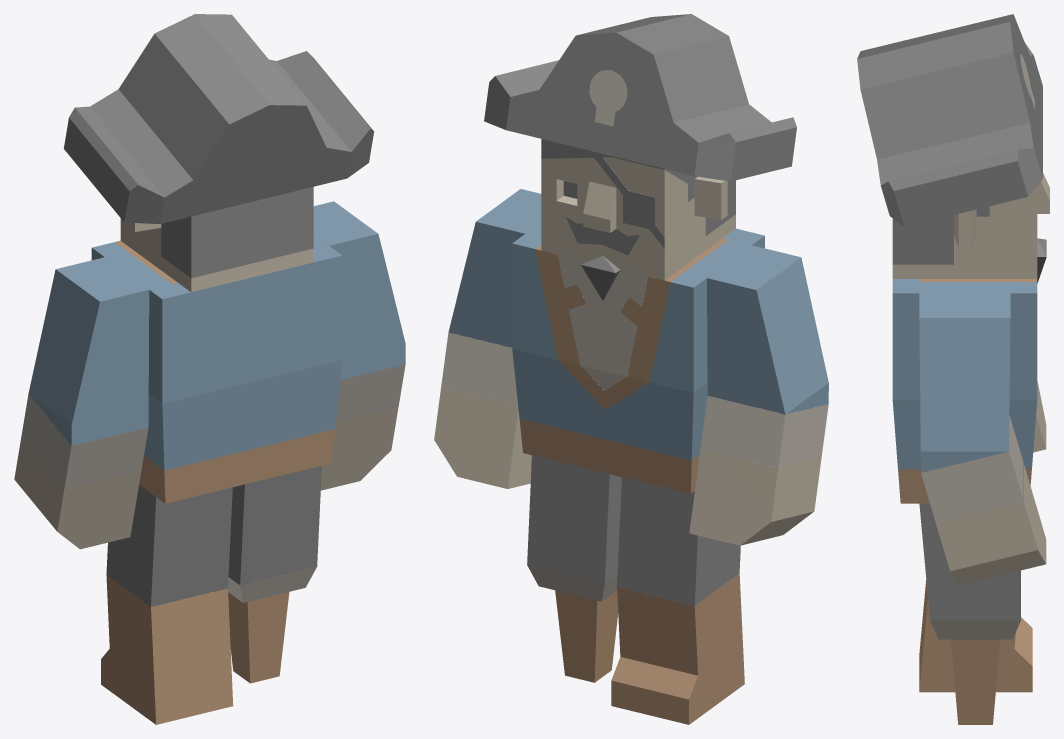
File: enemy-brute.glb
The picture shows the model from 3 angles, left to right: view 1: azimuth 30°, elevation 25°; view 2: azimuth 150°, elevation 25°; view 3: azimuth 270°, elevation 25°; orthographic projection. The views are drawn at different scales.
Parts seen in each view (by area): view 1: Group 85.001_3_0, body 2_2_0, armLeft 2_0_0, legLeft 2_5_1, legLeft 2_5_0, armRight 2_1_2, Group 85_4_1, legRight 2_6_0, armLeft 2_0_2, body 2_2_1, armLeft 2_0_1, legRight 2_6_2 (+4 smaller); view 2: Group 85.001_3_0, body 2_2_0, armLeft 2_0_0, Group 85_4_0, legLeft 2_5_1, body 2_2_1, legLeft 2_5_0, legRight 2_6_0, armLeft 2_0_2, armRight 2_1_2, armRight 2_1_1, armLeft 2_0_1 (+6 smaller); view 3: Group 85.001_3_0, armRight 2_1_2, body 2_2_0, Group 85_4_0, armRight 2_1_1, legRight 2_6_0, armRight 2_1_0, legLeft 2_5_1, legRight 2_6_2, Group 85_4_1, legRight 2_6_1, body 2_2_1 (+1 smaller).
Boxes of the visible parts, x1=… form: Group 85.001_3_0: x1=63, y1=14, x2=374, y2=223; body 2_2_0: x1=91, y1=235, x2=342, y2=470; armLeft 2_0_0: x1=28, y1=257, x2=149, y2=445; legLeft 2_5_1: x1=101, y1=575, x2=233, y2=724; legLeft 2_5_0: x1=106, y1=485, x2=232, y2=606; armRight 2_1_2: x1=313, y1=201, x2=405, y2=380; Group 85_4_1: x1=161, y1=187, x2=313, y2=278; legRight 2_6_0: x1=228, y1=465, x2=321, y2=585; armLeft 2_0_2: x1=14, y1=437, x2=141, y2=549; body 2_2_1: x1=115, y1=240, x2=334, y2=503; armLeft 2_0_1: x1=21, y1=394, x2=148, y2=488; legRight 2_6_2: x1=228, y1=592, x2=289, y2=683; Group 85.001_3_0: x1=484, y1=14, x2=796, y2=181; body 2_2_0: x1=512, y1=222, x2=764, y2=460; armLeft 2_0_0: x1=707, y1=245, x2=828, y2=414; Group 85_4_0: x1=541, y1=157, x2=735, y2=280; legLeft 2_5_1: x1=611, y1=573, x2=744, y2=724; body 2_2_1: x1=519, y1=238, x2=727, y2=493; legLeft 2_5_0: x1=617, y1=477, x2=740, y2=605; legRight 2_6_0: x1=527, y1=455, x2=621, y2=583; armLeft 2_0_2: x1=689, y1=449, x2=821, y2=545; armRight 2_1_2: x1=448, y1=189, x2=541, y2=347; armRight 2_1_1: x1=434, y1=386, x2=531, y2=488; armLeft 2_0_1: x1=700, y1=396, x2=828, y2=468; Group 85.001_3_0: x1=857, y1=14, x2=1042, y2=226; armRight 2_1_2: x1=919, y1=293, x2=1010, y2=472; body 2_2_0: x1=892, y1=210, x2=1037, y2=469; Group 85_4_0: x1=892, y1=173, x2=1049, y2=278; armRight 2_1_1: x1=935, y1=463, x2=1046, y2=585; legRight 2_6_0: x1=919, y1=503, x2=1020, y2=620; armRight 2_1_0: x1=921, y1=415, x2=1023, y2=521; legLeft 2_5_1: x1=919, y1=576, x2=1032, y2=692; legRight 2_6_2: x1=951, y1=639, x2=1000, y2=724; Group 85_4_1: x1=892, y1=206, x2=1046, y2=283; legRight 2_6_1: x1=930, y1=620, x2=1020, y2=639; body 2_2_1: x1=898, y1=215, x2=1037, y2=503.
Bounding box in the file's own units: 0.6239 × 1.17 × 0.3047.
